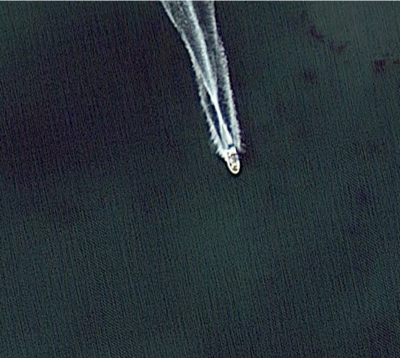boat: (219, 140, 245, 179)
